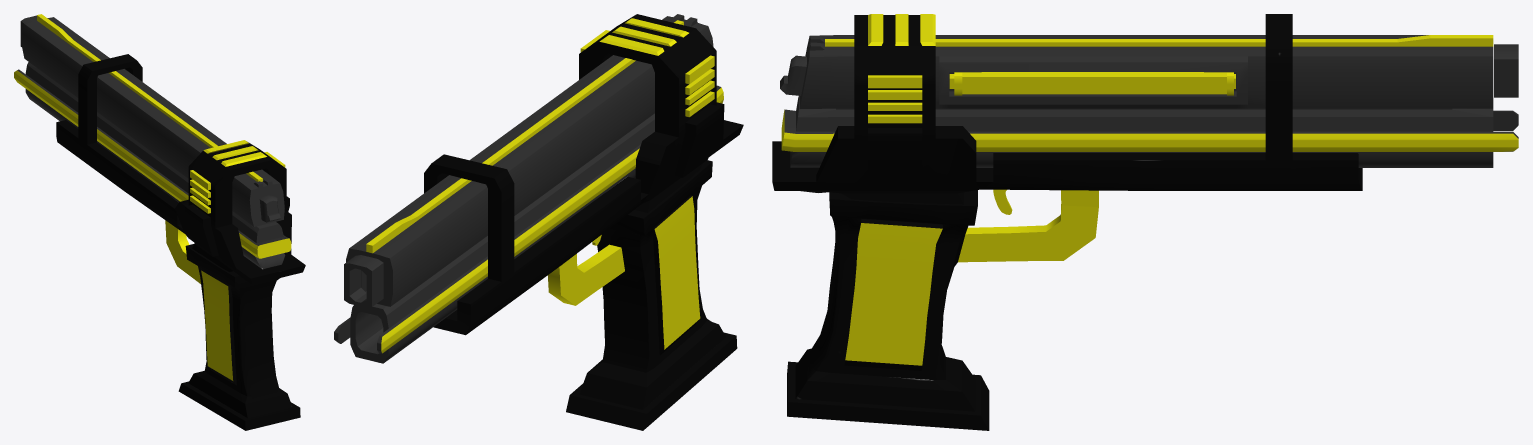
File: pistol export.fbx
3 renders of one model, left to right at view 1: azimuth 30°, elevation 25°; view 2: azimuth 150°, elevation 25°; view 3: azimuth 270°, elevation 25°, orthographic. The views are drawn at different scales.
Visible parts, largest first — view 1: Grip_and_Brace, Barrels; view 2: Grip_and_Brace, Barrels, Compensator; view 3: Grip_and_Brace, Barrels, Test_Cartridge, Compensator.
Boxes of the visible parts, box(x1,y1,x2,y2) form: Grip_and_Brace: box(56, 54, 305, 430); Barrels: box(14, 14, 291, 269); Grip_and_Brace: box(424, 14, 743, 430); Barrels: box(334, 14, 723, 363); Compensator: box(344, 255, 383, 307); Grip_and_Brace: box(772, 14, 1362, 430); Barrels: box(780, 35, 1518, 167); Test_Cartridge: box(949, 72, 1235, 95); Compensator: box(1494, 44, 1518, 97).
Bounding box in the file's own units: 0.1981 × 0.5519 × 0.9746.
1 material, 1 textured.
